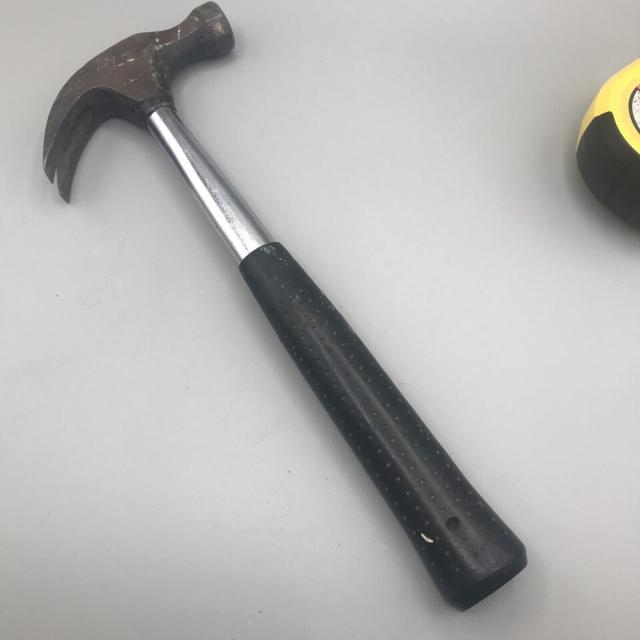hammer: (36, 0, 540, 622)
